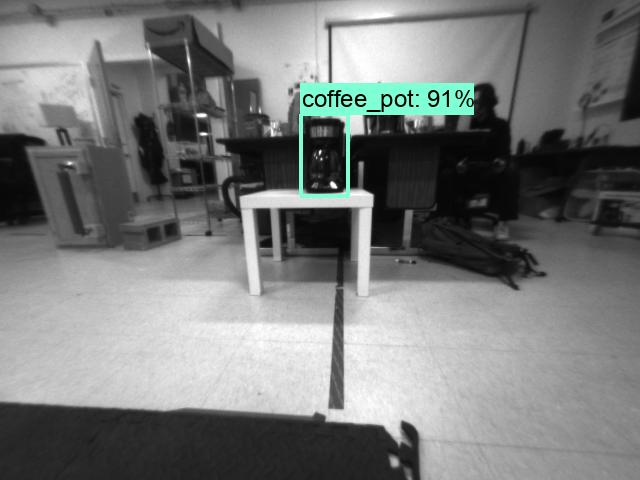coffee_pot: (301, 118, 347, 194)
